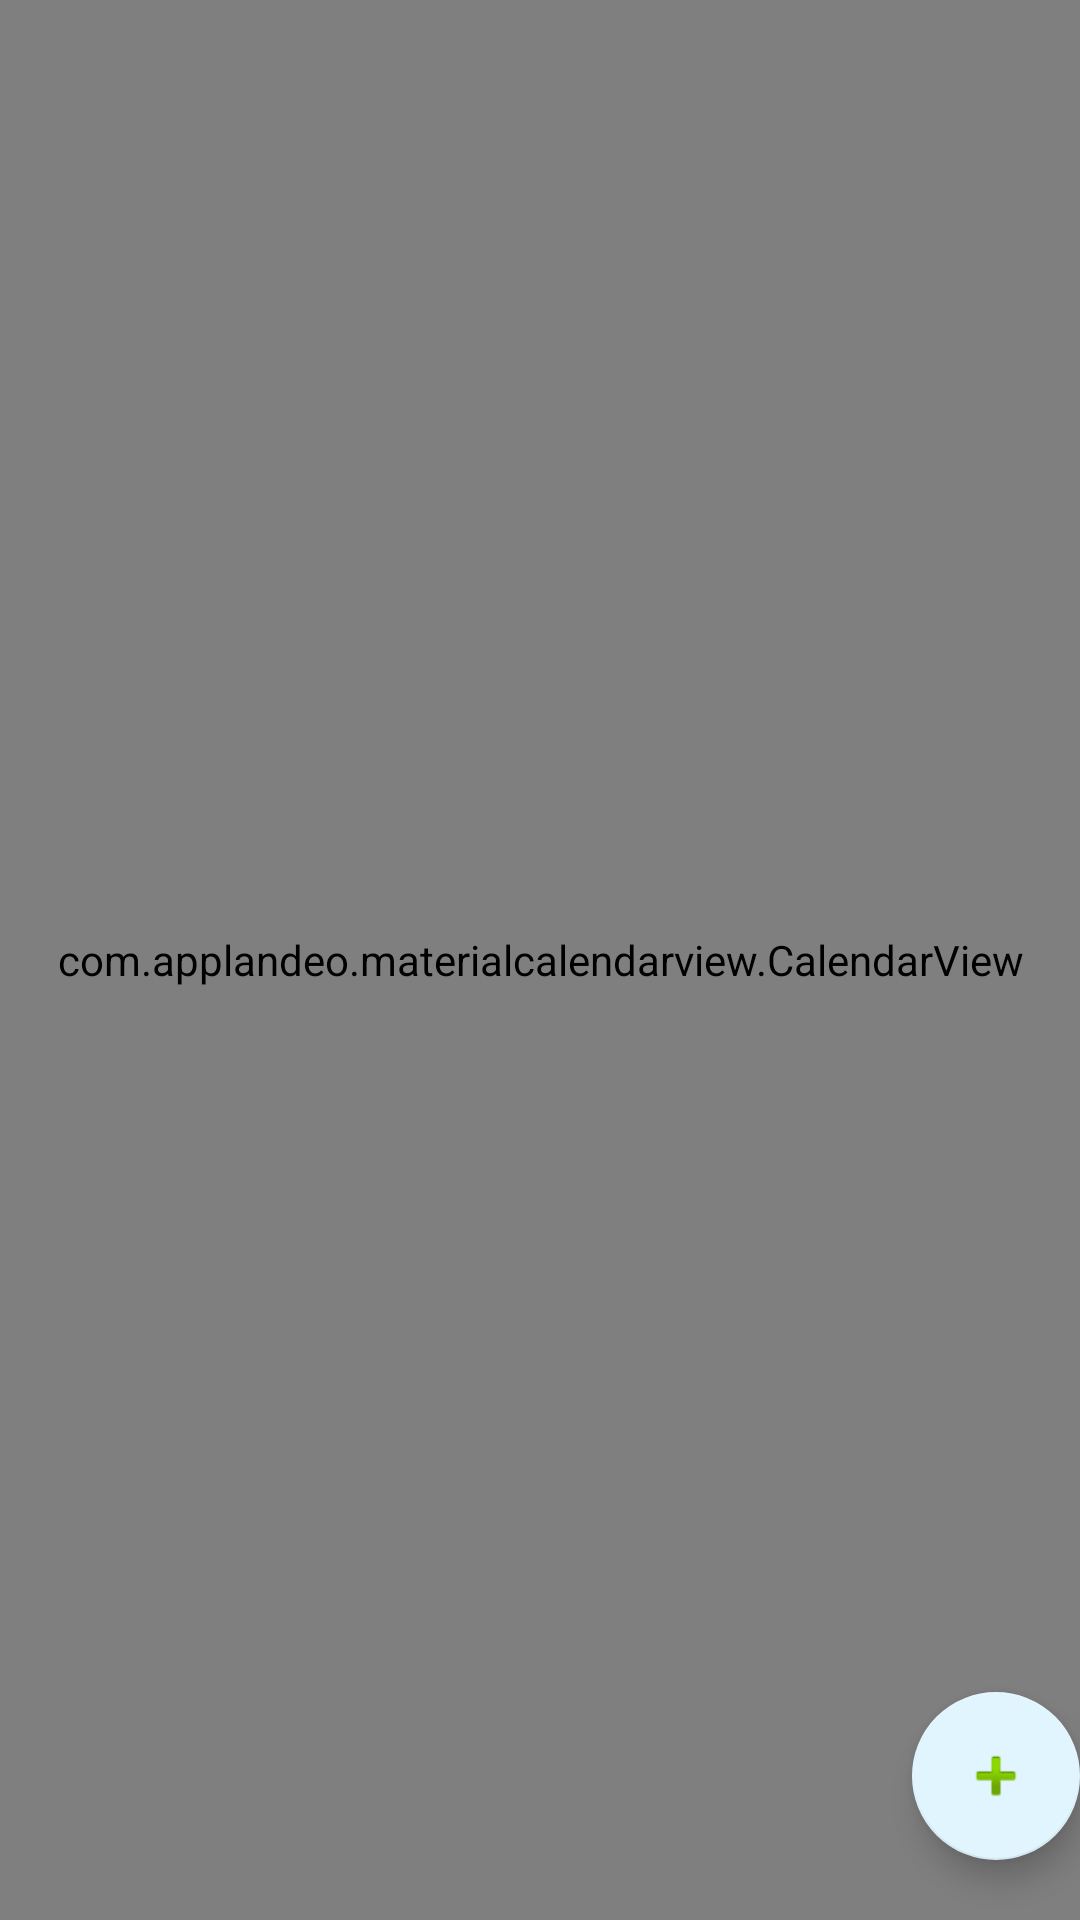

Named icons in this screenshot (1080 × 1920) and their centers, [x,y]:
add: [996,1776]
